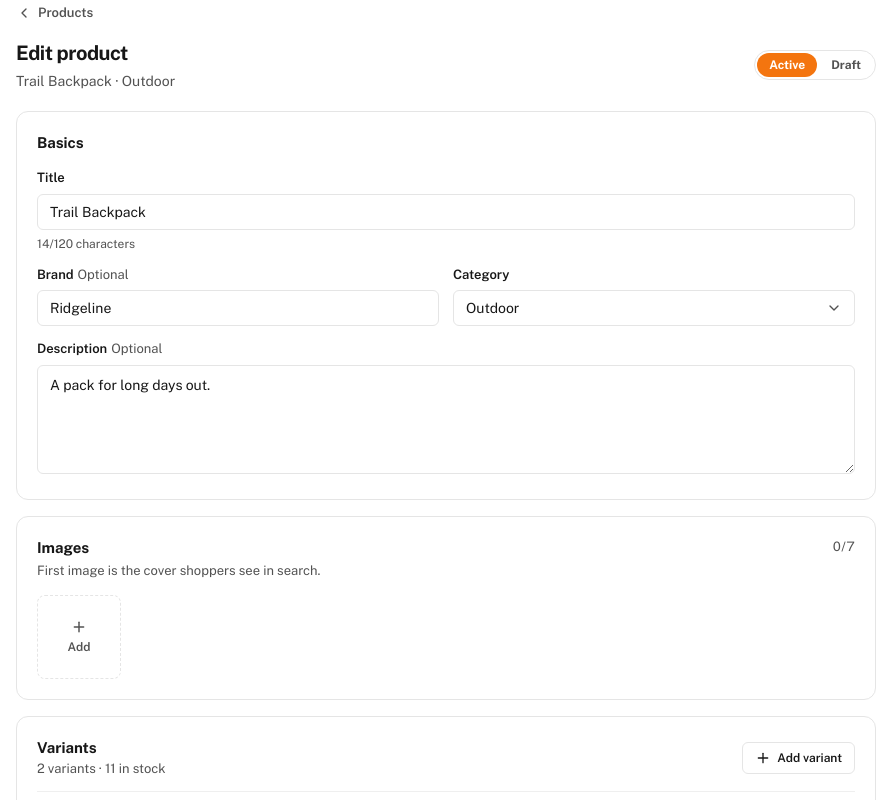
Test case: the product form › counts the characters in the title against the limit
The image size is (893, 800).
Check: the text "14/120 characters" is shown, box [37, 236, 135, 250]
Step 1. Type "!" into the field labelled "Title" → (446, 212), box [37, 194, 855, 230]
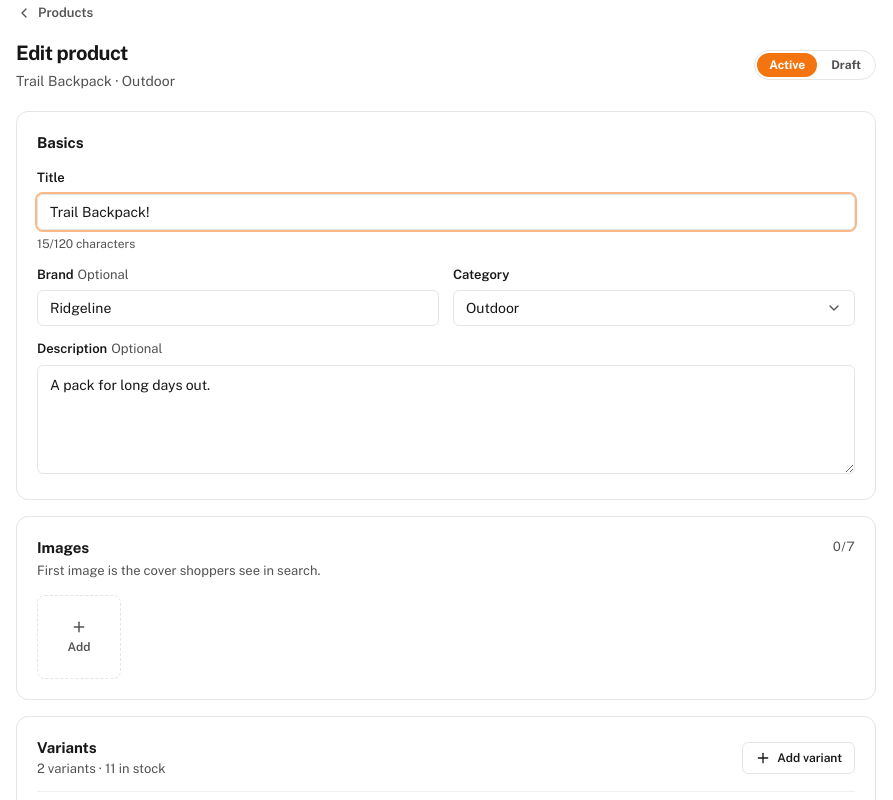
Check: the text "15/120 characters" is shown, box [37, 236, 135, 250]
